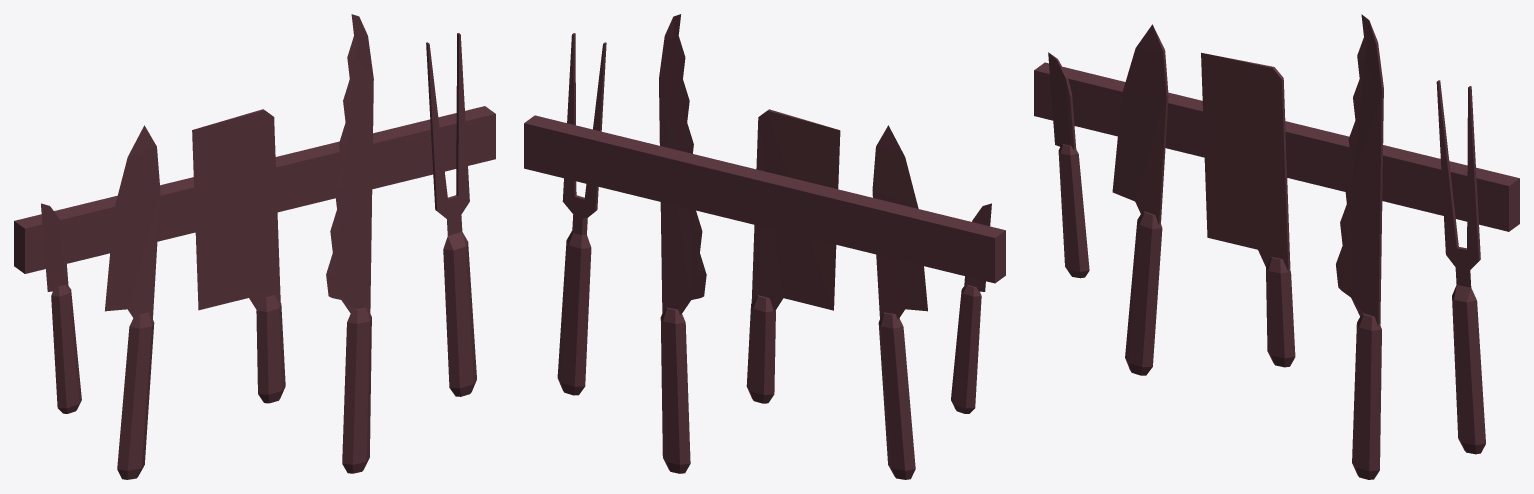
File: knife-kitchen-magnetic.fbx
3 views of the same model, side by side, from view 1: azimuth 30°, elevation 25°; view 2: azimuth 150°, elevation 25°; view 3: azimuth 330°, elevation 25° (orthographic).
Parts seen in each view (by area): view 1: knife-kitchen-magnetic; view 2: knife-kitchen-magnetic; view 3: knife-kitchen-magnetic.
Part boxes in pixels (x1,y1,x2,y2): knife-kitchen-magnetic: (14,14,495,479); knife-kitchen-magnetic: (524,14,1005,479); knife-kitchen-magnetic: (1034,14,1519,479).
Bounding box in the file's own units: 0.418 × 0.389 × 0.0258.
